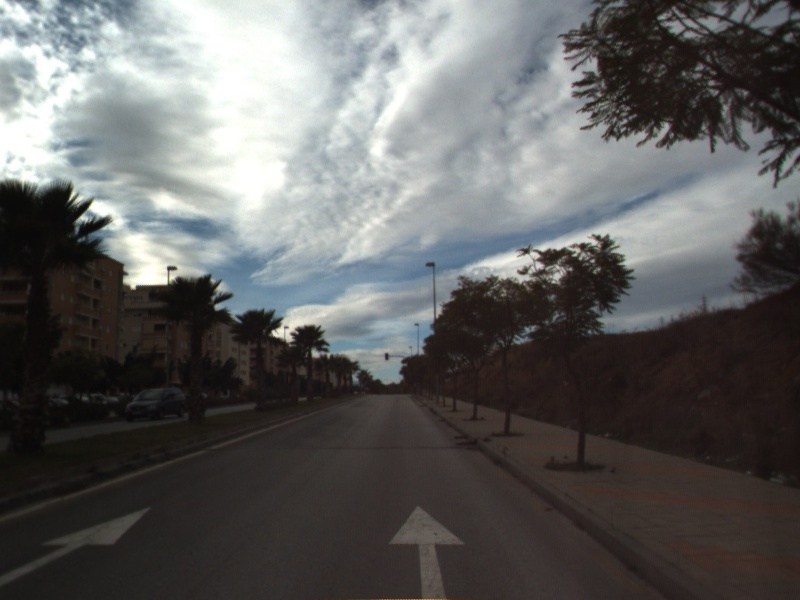STRAIGHT: (1, 504, 153, 588), (386, 504, 468, 600)
